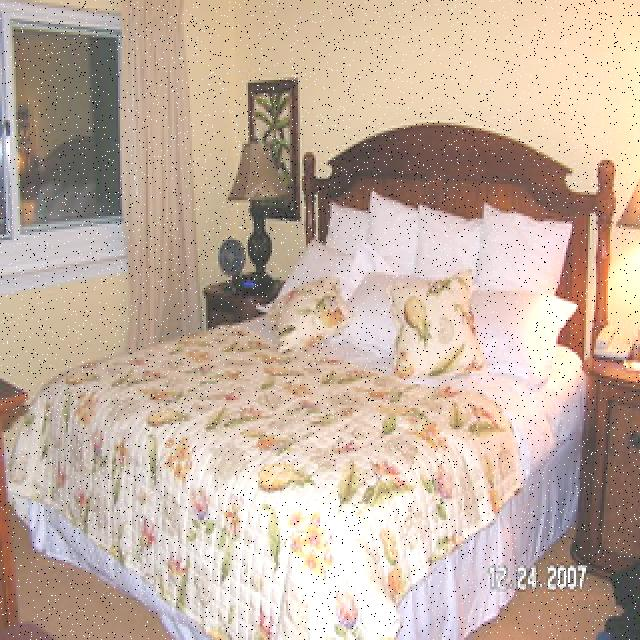bed: (15, 133, 630, 640)
